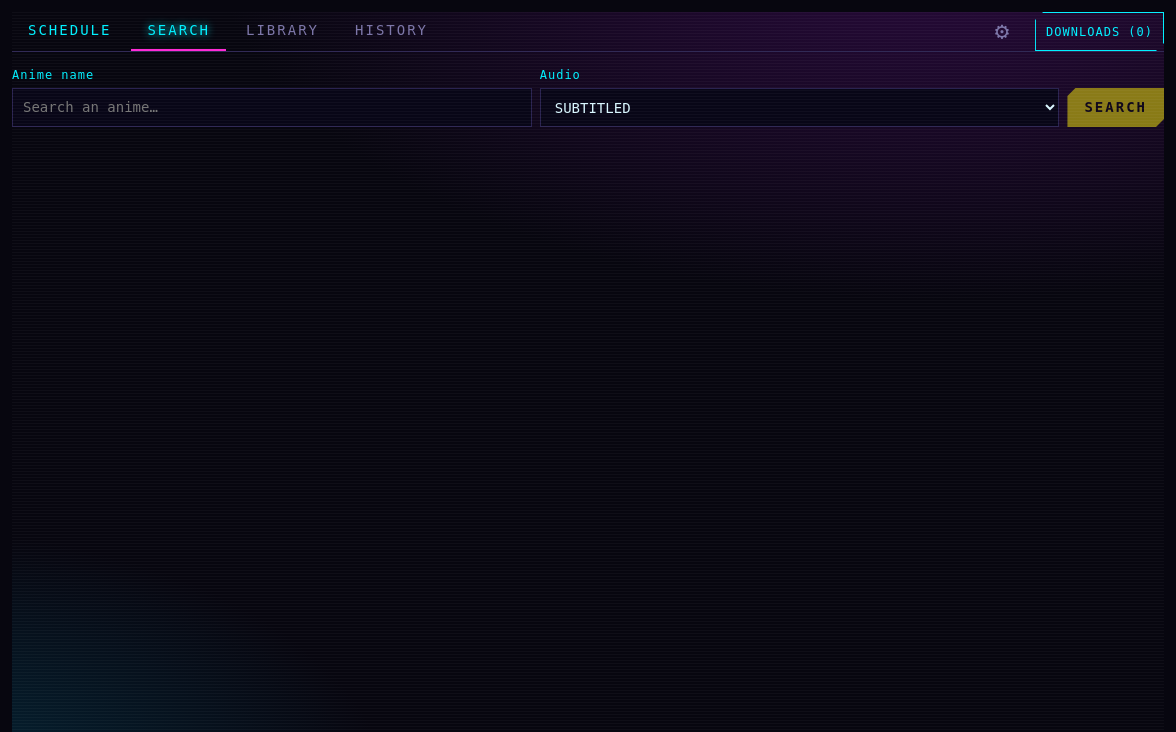
Test case: AnimePanel › switches between the search and the library
This screenshot has width=1176, height=732.
Click the button "LIBRARY" at (282,32), box [230, 12, 335, 51]
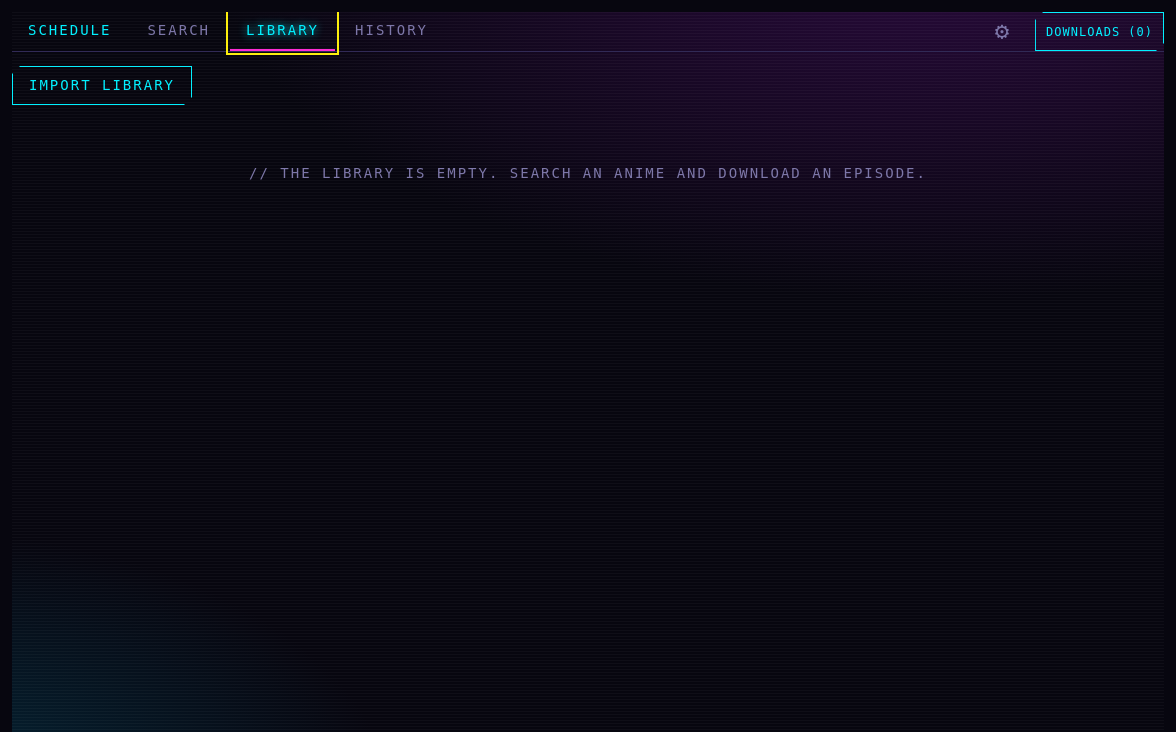
expect the text "// THE LIBRARY IS EMPTY. SEARCH AN ANIME AND DOWNLOAD AN EPISODE." is shown: met, box [249, 165, 927, 181]
expect the text labelled "Anime name" is gone: met
Click the button "SEARCH" at (179,32), box [131, 12, 226, 51]
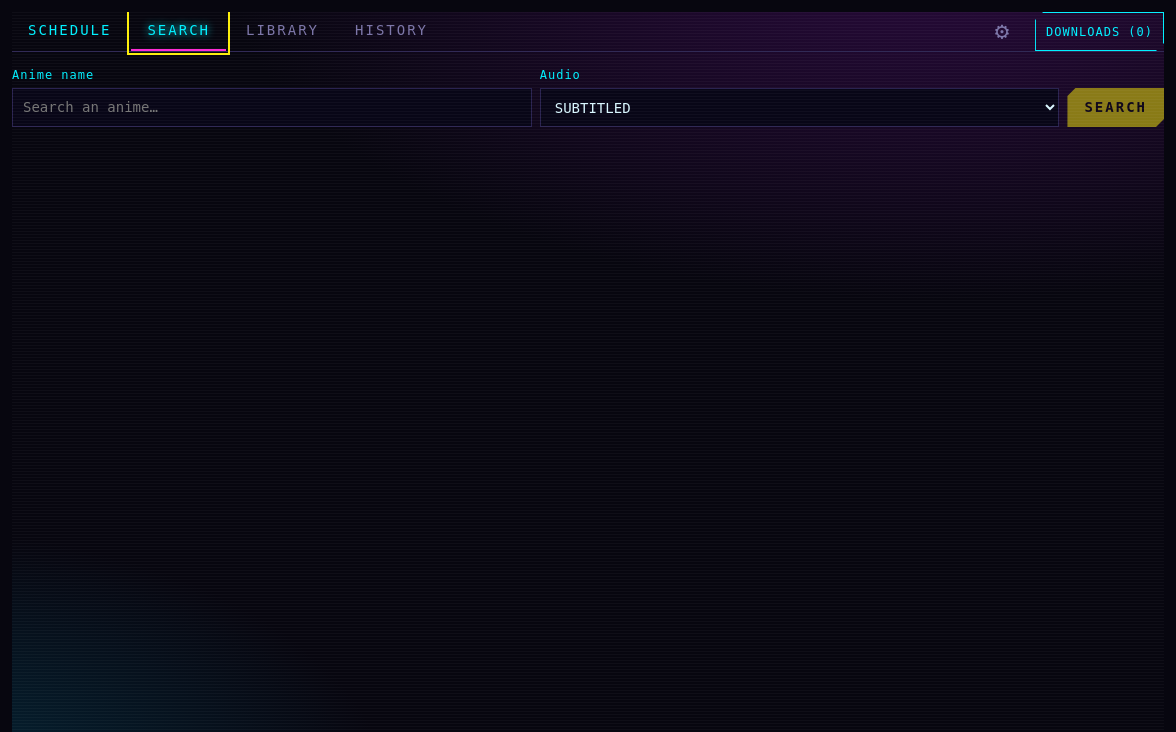
expect the field labelled "Anime name" is shown: met, box [12, 88, 532, 127]
